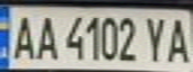0: (100, 12, 121, 62)
1: (81, 12, 103, 61)
2: (115, 12, 142, 63)
4: (60, 11, 84, 61)
A: (6, 11, 39, 61), (163, 13, 193, 64), (30, 11, 60, 61)
Y: (139, 12, 172, 64)
